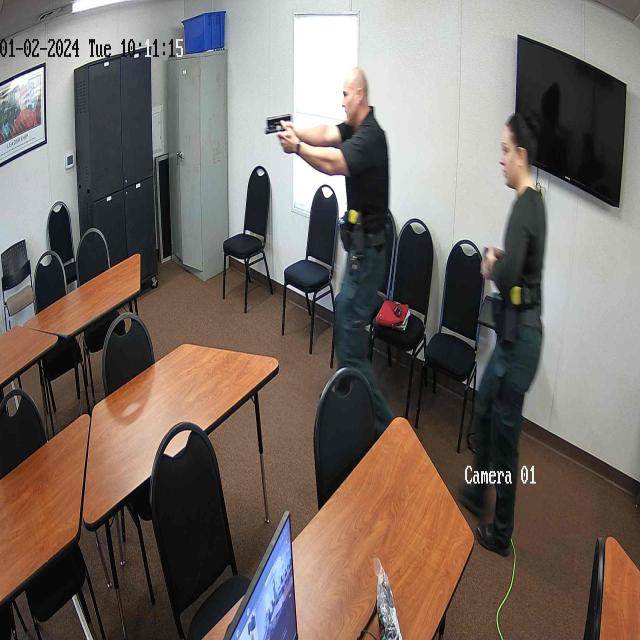weapon: (265, 118, 294, 139), (479, 250, 493, 270)
